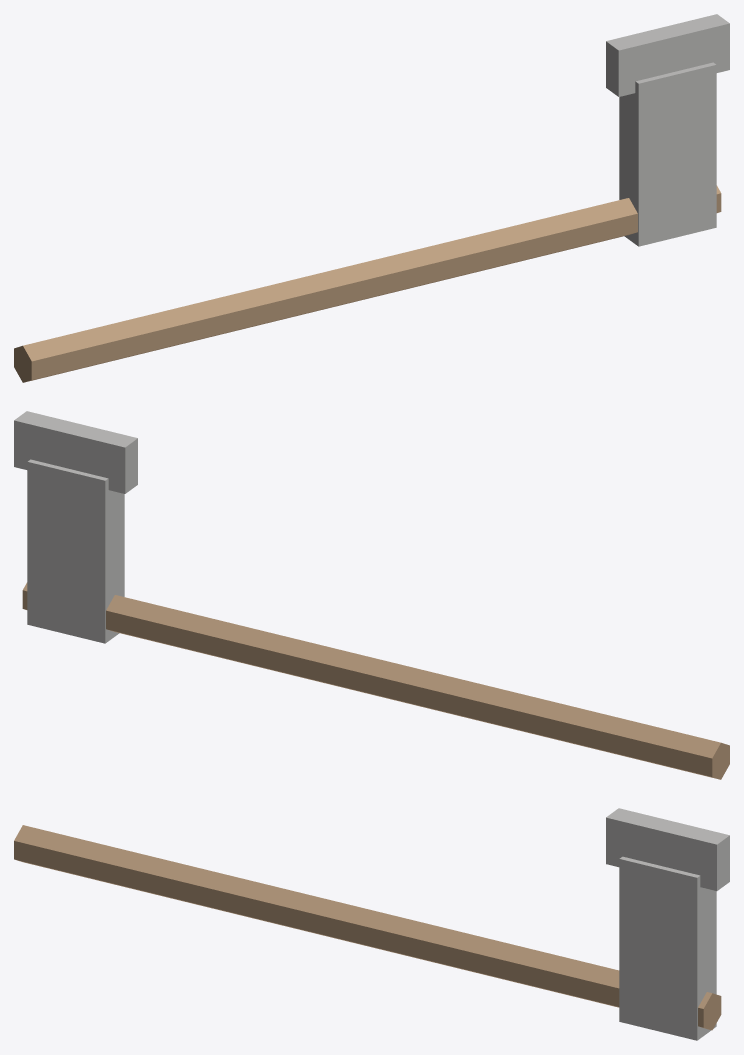
File: held_tool_hatchet.glb
The picture shows the model from 3 angles, top to bottom: view 1: azimuth 30°, elevation 25°; view 2: azimuth 150°, elevation 25°; view 3: azimuth 330°, elevation 25°; orthographic projection.
Parts seen in each view (by area): view 1: held_tool_hatchet; view 2: held_tool_hatchet; view 3: held_tool_hatchet.
Part boxes in pixels (bbox=[...]): held_tool_hatchet: bbox=[14, 14, 729, 382]; held_tool_hatchet: bbox=[14, 411, 729, 779]; held_tool_hatchet: bbox=[14, 808, 729, 1040].
Bounding box in the file's own units: 0.63 × 0.17 × 0.03.
